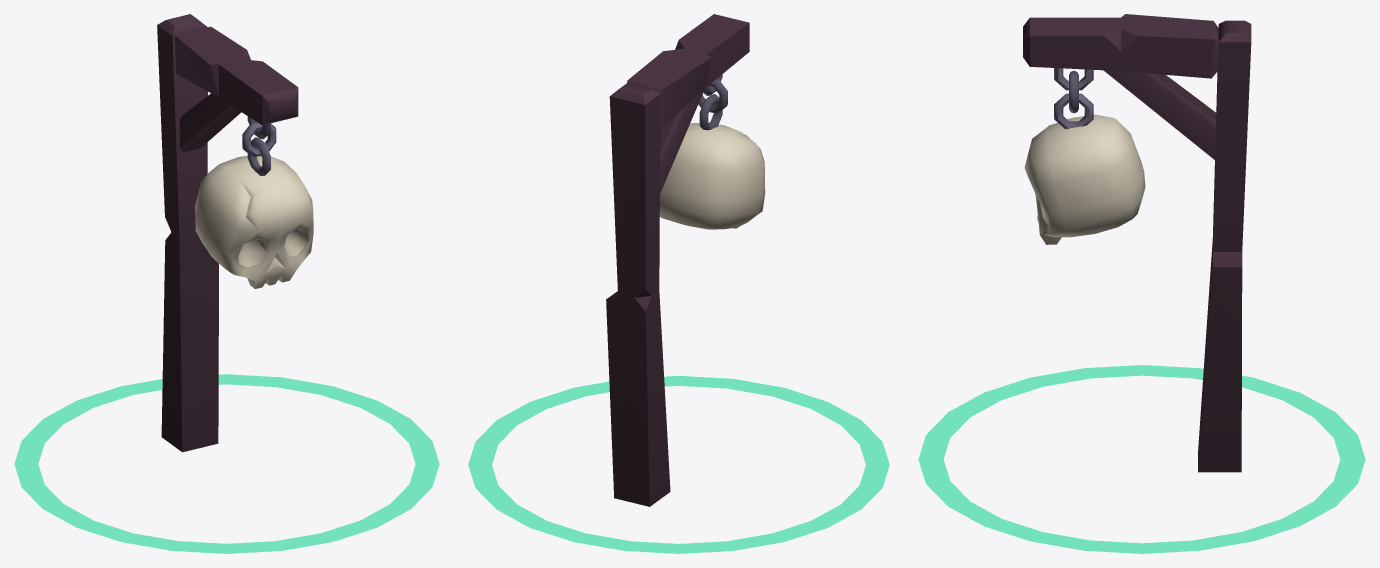
The model's file is foe_marker.fbx.
3 renders of one model, left to right at view 1: azimuth 30°, elevation 25°; view 2: azimuth 150°, elevation 25°; view 3: azimuth 270°, elevation 25°, orthographic. The views are drawn at different scales.
Parts seen in each view (by area): view 1: foe_marker; view 2: foe_marker; view 3: foe_marker.
Boxes of the visible parts, bbox=[...] form: foe_marker: bbox=[14, 14, 439, 553]; foe_marker: bbox=[468, 14, 889, 553]; foe_marker: bbox=[918, 14, 1365, 553].
Size of the model in its own units: 2.3 by 2.47 by 2.3.
